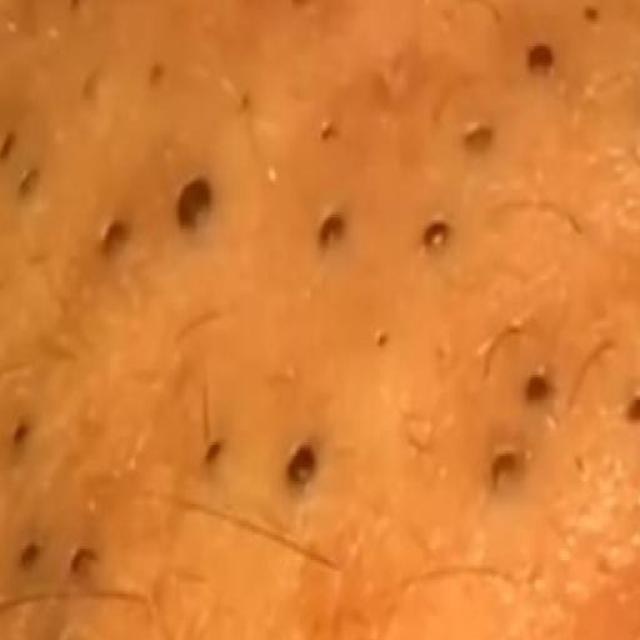blackhead: (286, 444, 315, 485), (100, 220, 128, 260), (490, 452, 516, 493), (181, 184, 208, 222), (464, 123, 494, 154), (318, 215, 344, 250), (18, 166, 40, 202), (524, 375, 551, 403), (528, 45, 552, 73), (424, 223, 448, 248), (1, 128, 16, 168), (71, 548, 94, 574), (319, 123, 341, 148), (625, 392, 640, 422), (22, 545, 38, 567), (204, 442, 220, 463), (374, 330, 387, 350), (150, 65, 163, 82), (13, 426, 26, 441), (583, 9, 599, 21), (64, 0, 84, 9)
